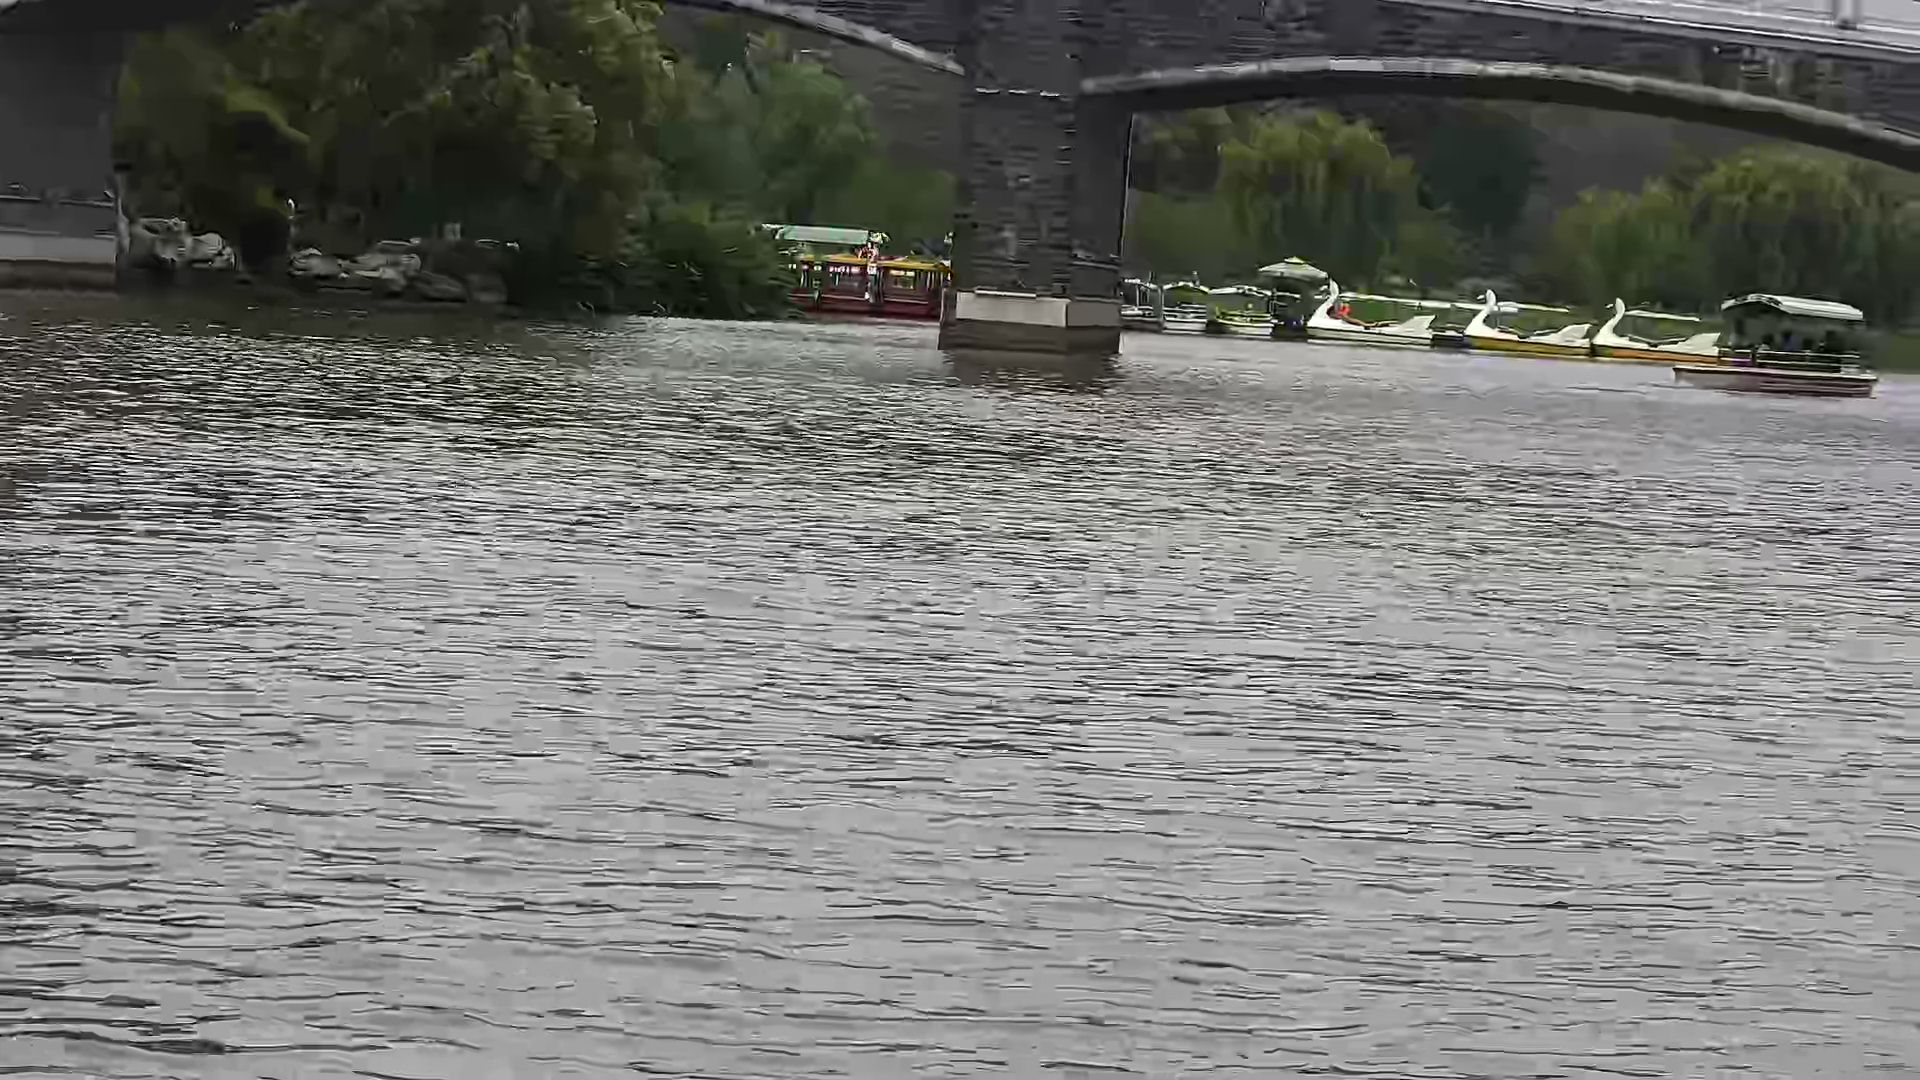boat: (1667, 278, 1880, 398)
